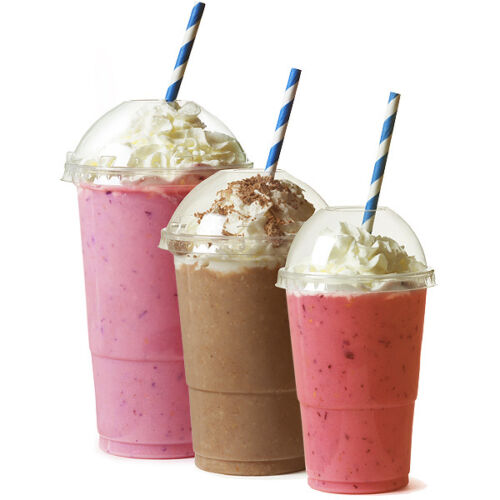plastic_glass: (271, 200, 442, 500)
